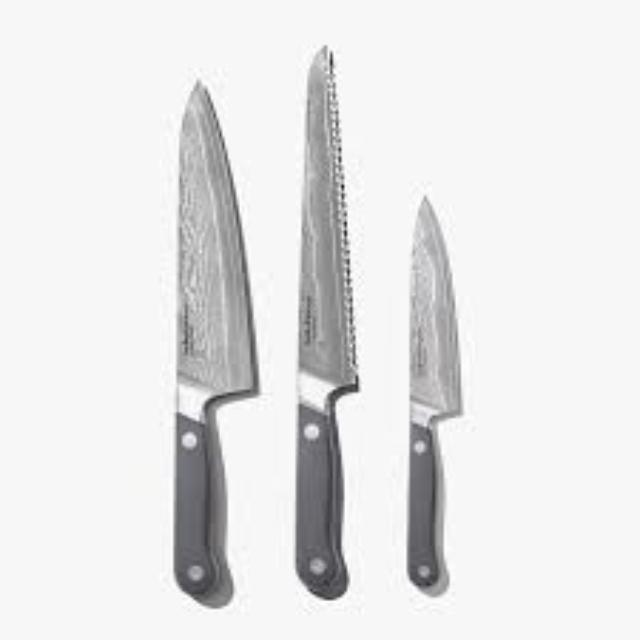Knife: (171, 77, 259, 606), (294, 43, 358, 597), (404, 193, 464, 594)
